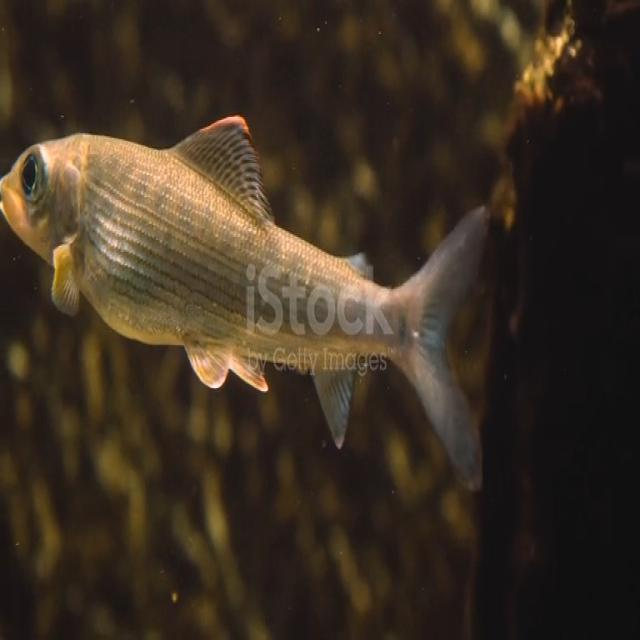fish: (0, 105, 488, 495)
